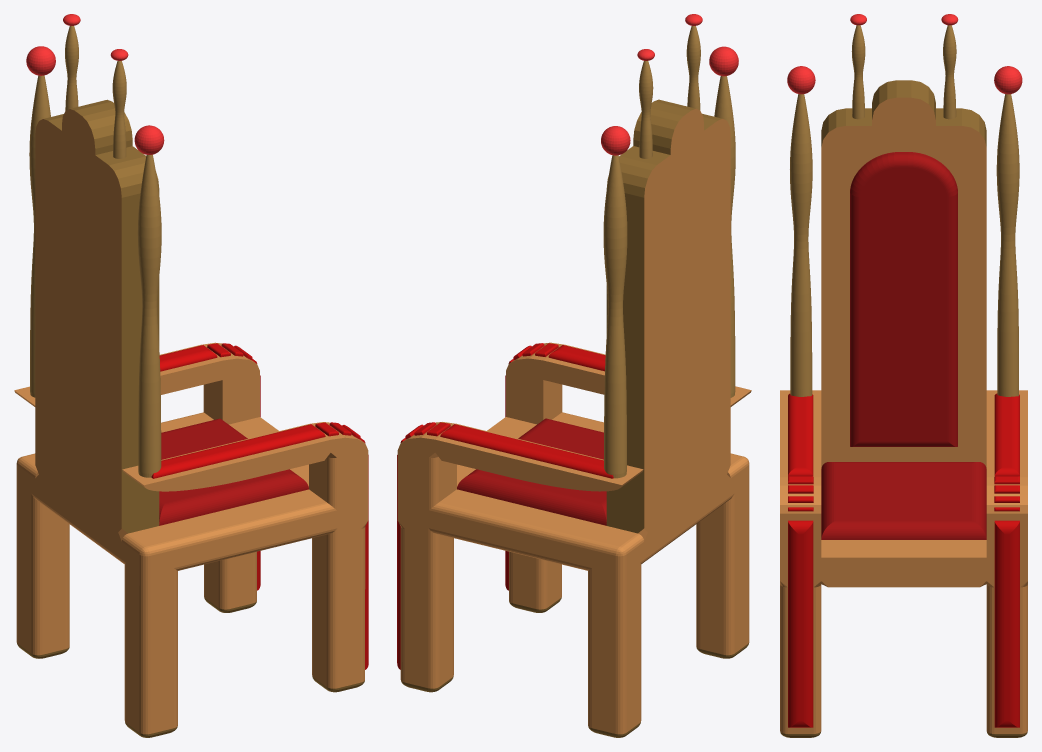
The model's file is Taht.fbx.
3 views of the same model, side by side, from view 1: azimuth 30°, elevation 25°; view 2: azimuth 150°, elevation 25°; view 3: azimuth 270°, elevation 25° (orthographic). The views are drawn at different scales.
Visible parts, largest first — view 1: Cube; view 2: Cube; view 3: Cube.
Part boxes in pixels (x1,y1,x2,y2): Cube: (14, 14, 368, 737); Cube: (397, 14, 751, 737); Cube: (780, 14, 1027, 737).
Size of the model in its own units: 368 by 992 by 355.
